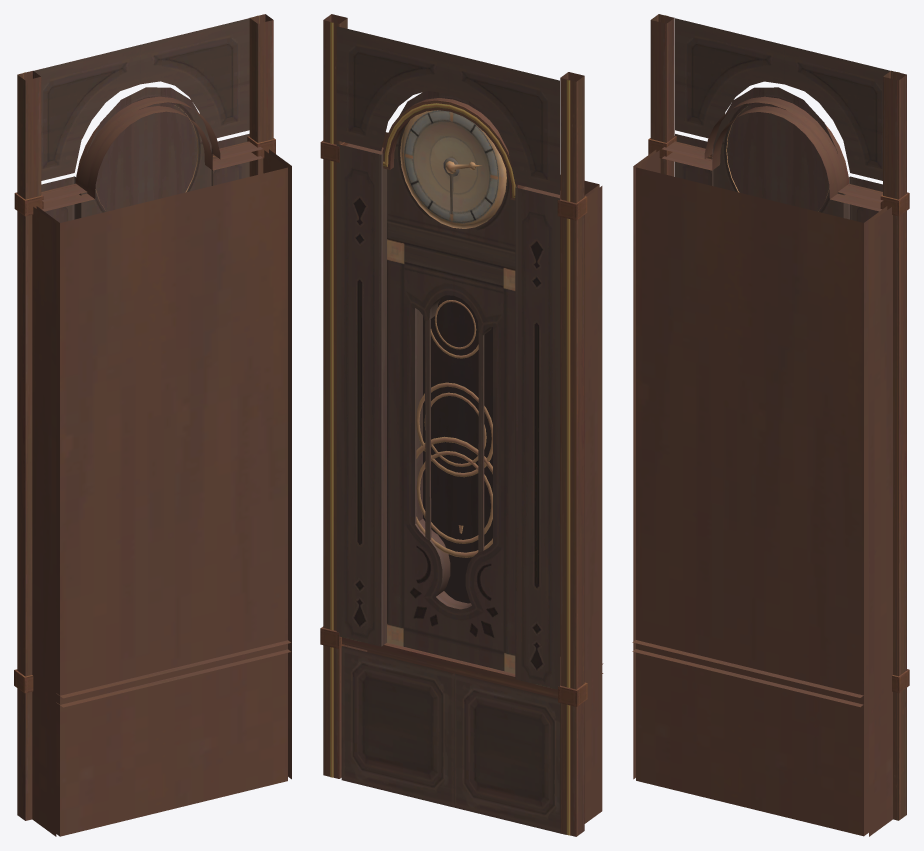
File: Reloj1.obj
3 renders of one model, left to right at view 1: azimuth 30°, elevation 25°; view 2: azimuth 150°, elevation 25°; view 3: azimuth 330°, elevation 25°, orthographic. The views are drawn at different scales.
Visible parts, largest first — view 1: grouppasted__pasted__Indoor_MdBuild_Knightoffice_Vo_5pasted__gro, pasted__pasted__Indoor_MdProps_Knightoffice_Bell01_Vo_0pasted__g; view 2: pasted__pasted__Indoor_MdProps_Knightoffice_Bell01_Vo_0pasted__g, grouppasted__pasted__Indoor_MdBuild_Knightoffice_Vo_5pasted__gro, grouppasted__pasted__polySurface6pasted__pasted__Indoor_MdBuild_, grouppasted__pasted__Indoor_MdBuild_Knightoffice_Vo_1pasted__gro; view 3: grouppasted__pasted__Indoor_MdBuild_Knightoffice_Vo_5pasted__gro, pasted__pasted__Indoor_MdProps_Knightoffice_Bell01_Vo_0pasted__g.
Part boxes in pixels (x1=…): grouppasted__pasted__Indoor_MdBuild_Knightoffice_Vo_5pasted__gro: x1=14, y1=14, x2=291, y2=836; pasted__pasted__Indoor_MdProps_Knightoffice_Bell01_Vo_0pasted__g: x1=34, y1=18, x2=249, y2=222; pasted__pasted__Indoor_MdProps_Knightoffice_Bell01_Vo_0pasted__g: x1=336, y1=26, x2=559, y2=689; grouppasted__pasted__Indoor_MdBuild_Knightoffice_Vo_5pasted__gro: x1=320, y1=14, x2=603, y2=836; grouppasted__pasted__polySurface6pasted__pasted__Indoor_MdBuild_: x1=341, y1=646, x2=454, y2=807; grouppasted__pasted__Indoor_MdBuild_Knightoffice_Vo_1pasted__gro: x1=455, y1=673, x2=566, y2=834; grouppasted__pasted__Indoor_MdBuild_Knightoffice_Vo_5pasted__gro: x1=632, y1=14, x2=909, y2=836; pasted__pasted__Indoor_MdProps_Knightoffice_Bell01_Vo_0pasted__g: x1=675, y1=18, x2=890, y2=222.
Bounding box in the file's own units: 2.3 × 6.47 × 0.5959.
Materials: 3 (3 with a texture image).
